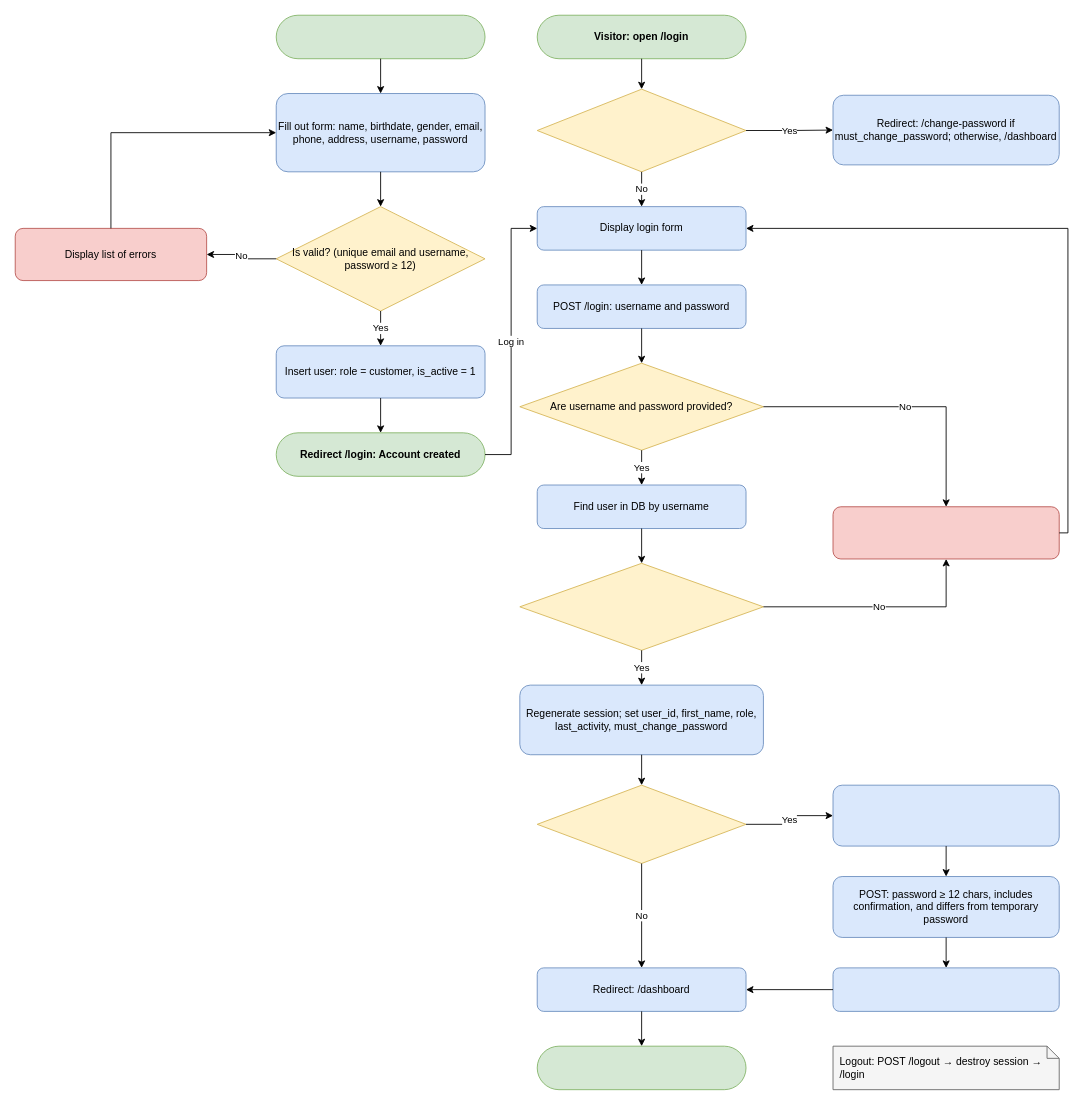
This 1090x1105 diagram has some shape labels left out. Each missing label, with the centre of its shape:
"Dashboard (see page 3)" goes at pixel 641 1067.
"Error: return to login form with error message" goes at pixel 945 532.
"GET /change-password (requires valid session, 30 min max)" goes at pixel 945 815.
"Is user_id already in session?" goes at pixel 641 130.
"must_change_password?" goes at pixel 641 823.
"Update password; must_change_password = 0" goes at pixel 945 989.
"User exists, active, and password is correct?" goes at pixel 641 606.
"Visitor: open /register" goes at pixel 380 36.
